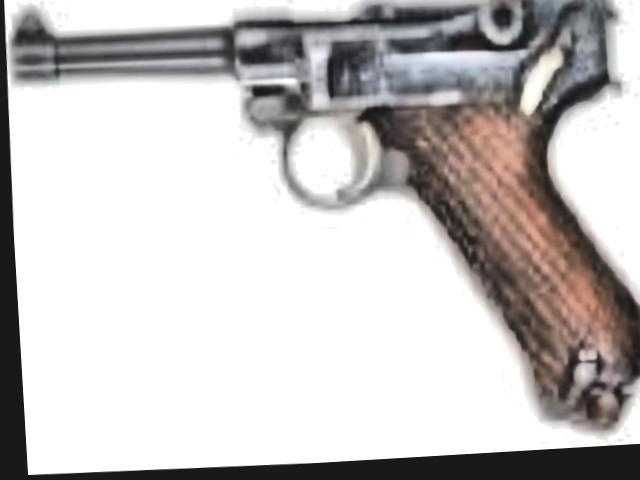pistol: (0, 0, 640, 457)
